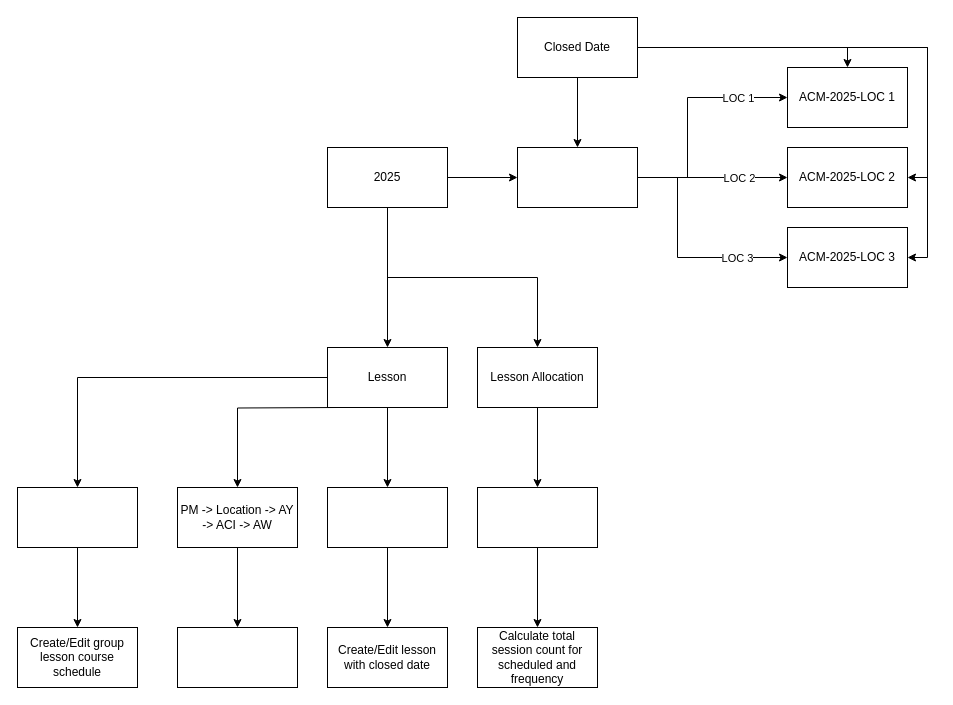
The diagram is 953 pixels wide and 705 high, and some of its shapes have lost their labels. Here are the shapes that lost their labels. From the top down, the centre of each, then its label:
[577,177]: Academic Calendar Master (ACM-2025)
[77,517]: Location -> AY -> Course -> PM -> AW
[387,517]: Location -> AY -> ACI -> Closed date
[537,517]: Location -> AY -> ACI -> AW
[237,657]: Create/Edit individual lesson course schedule
